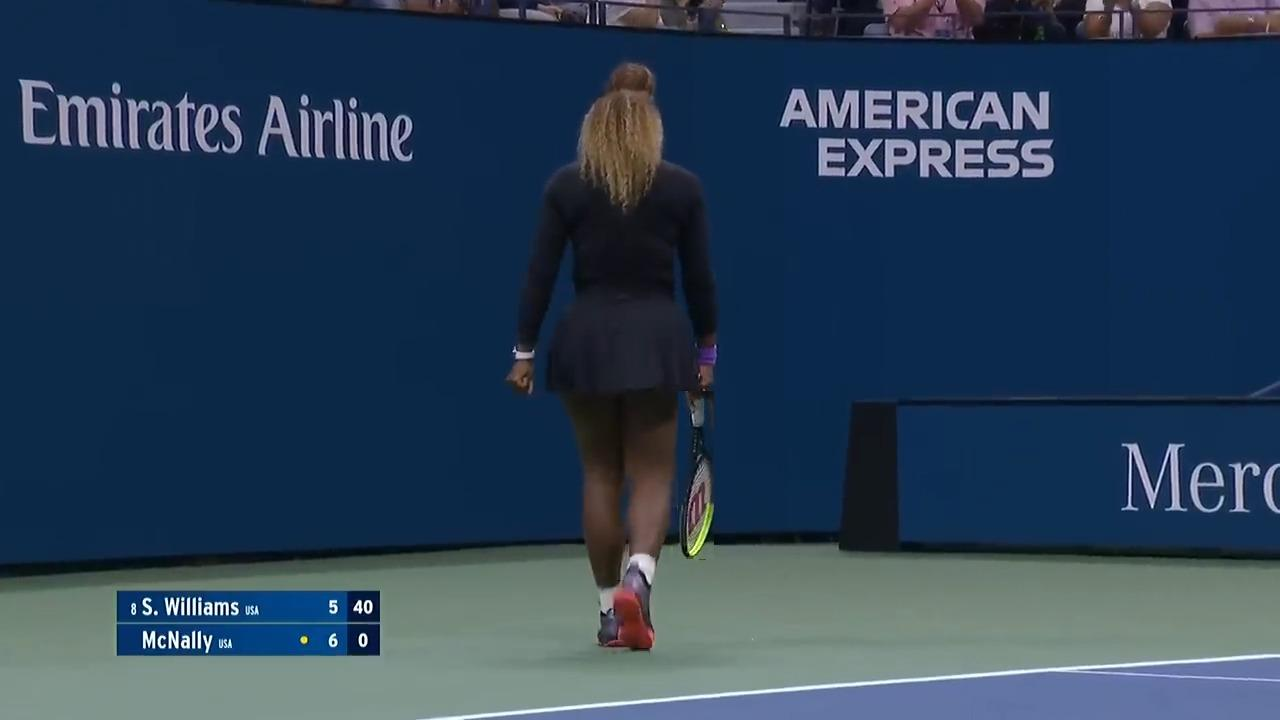tennis racket: (678, 392, 714, 558)
